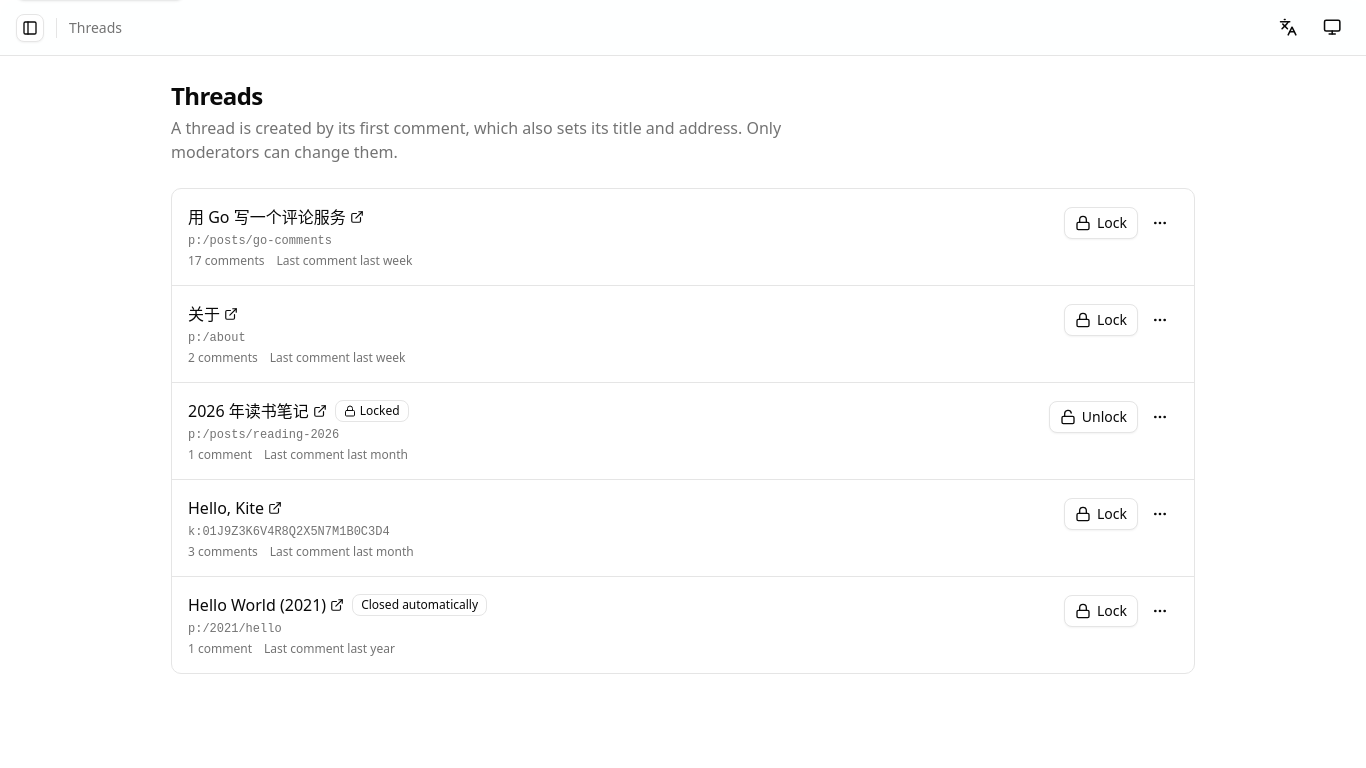
it: moderation › locks a thread and moves another to a new key
This screenshot has width=1366, height=768.
Click the button "Lock" in the row of "关于": (1101, 320) [1064,304,1138,336]
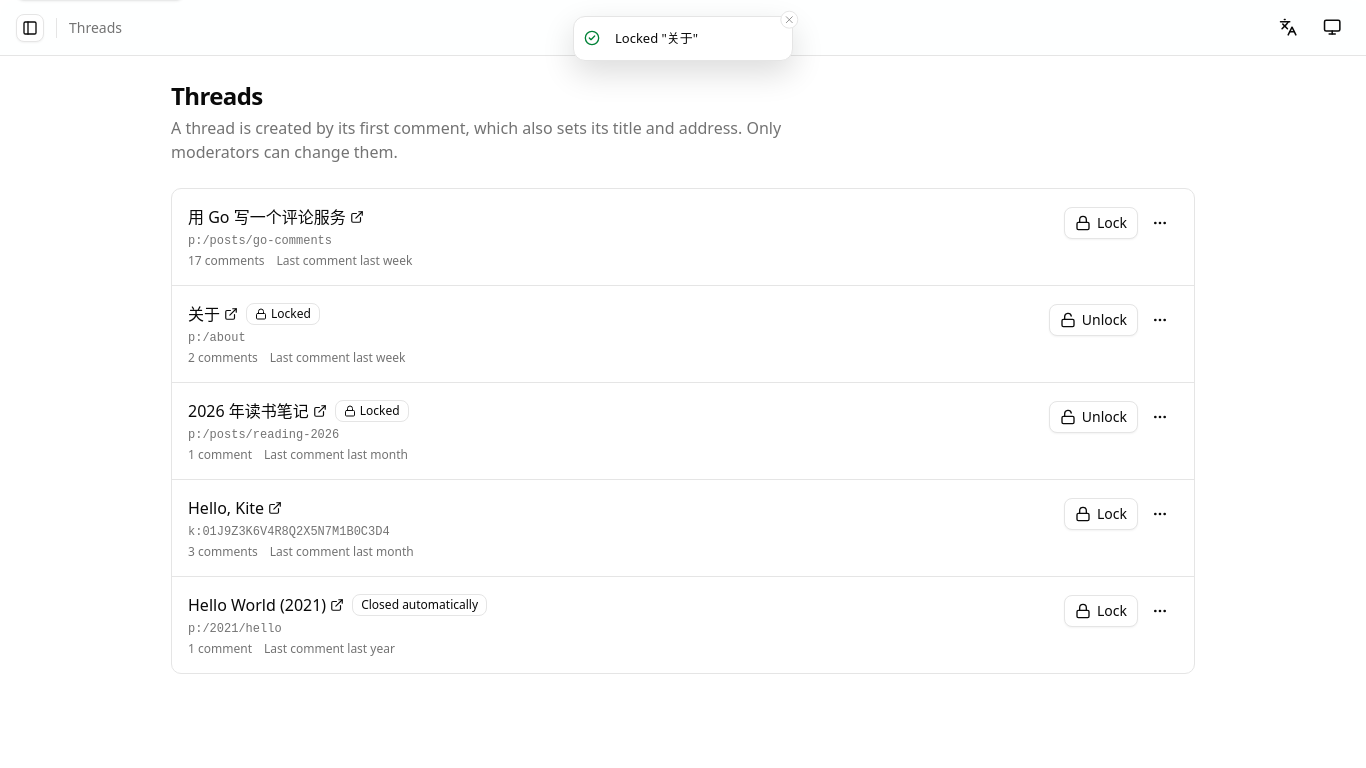
Expected: the button "Unlock" in the row of "p:/about" is shown, [1049,304,1138,336]
Click the button named "More actions": (1160, 320) [1142,302,1178,338]
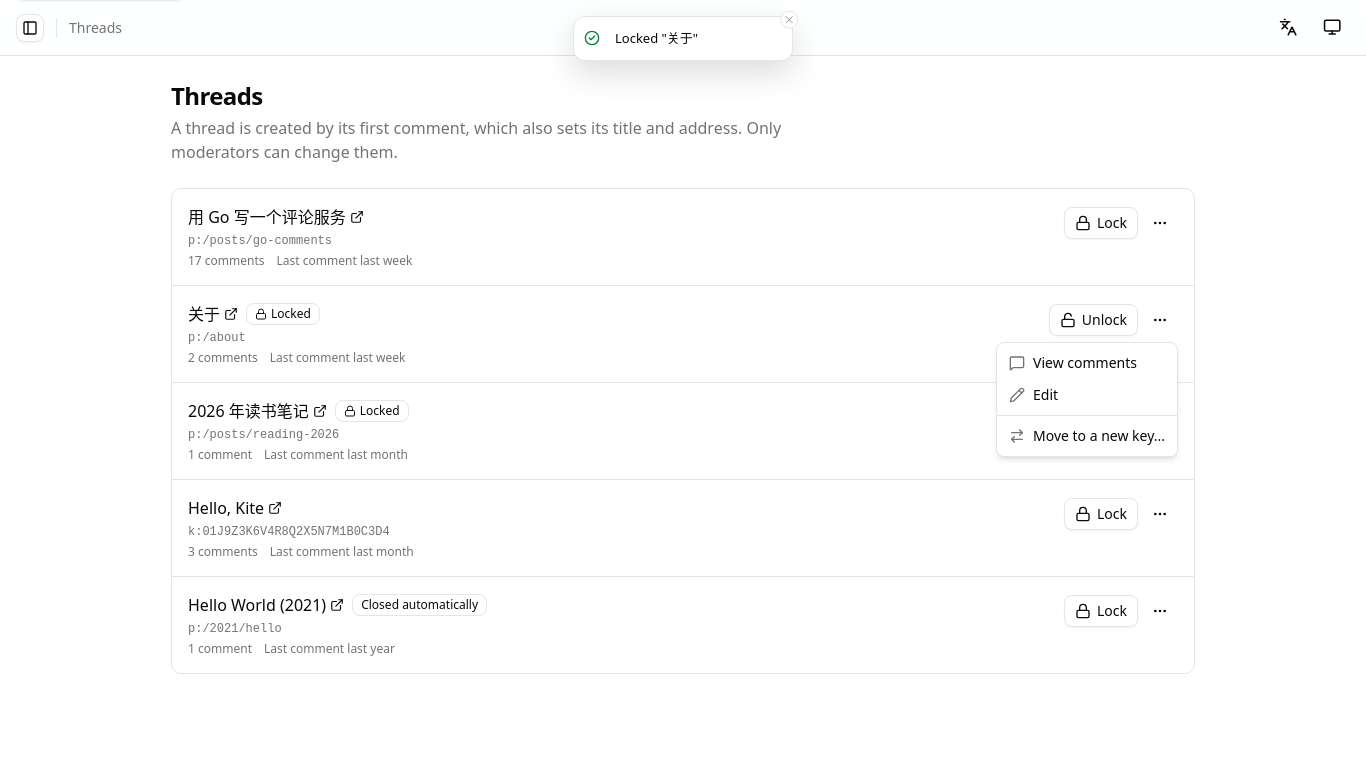
Click the menu item "Move to a new key...": (1087, 436) [1009,426,1165,445]
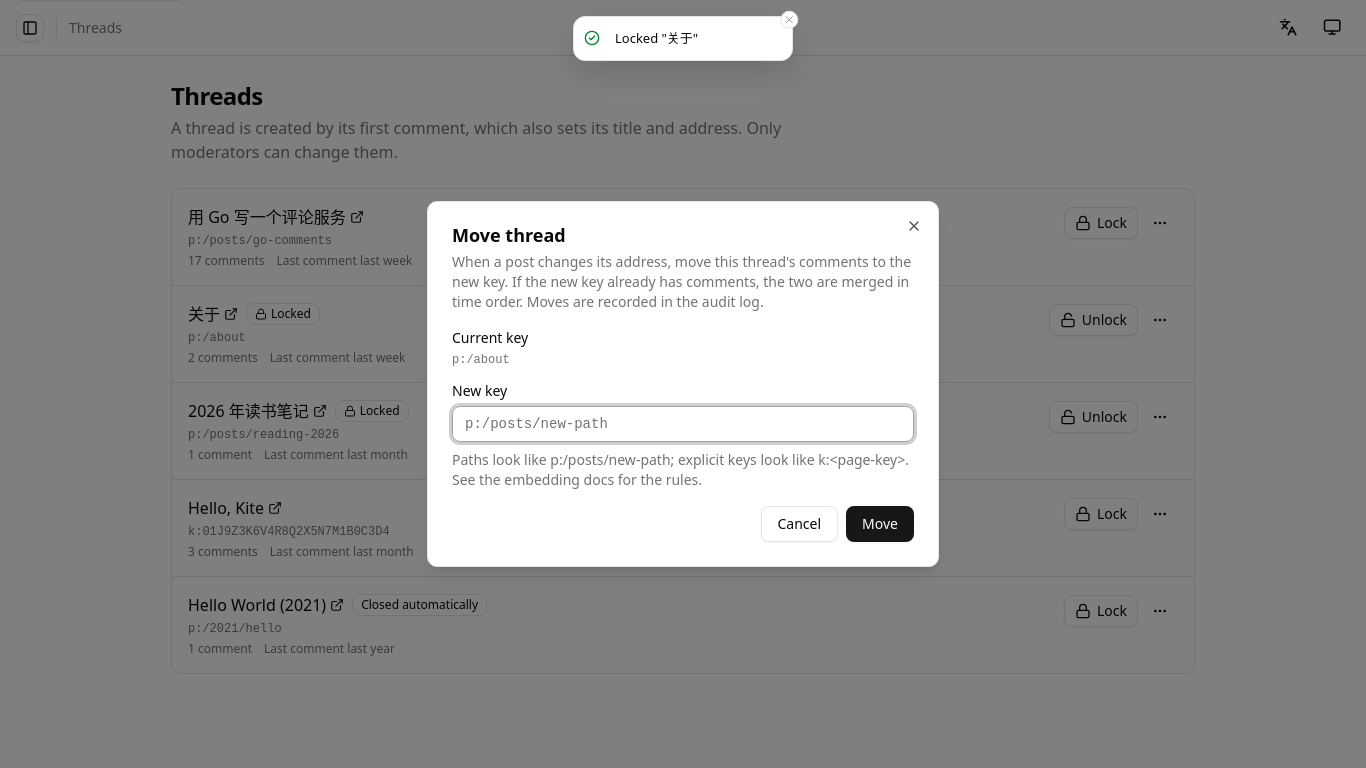
In the field labelled "New key": (683, 424) [452,406,914,442], type "/about-me"
Click the button "Move": (880, 524) [846,506,914,542]
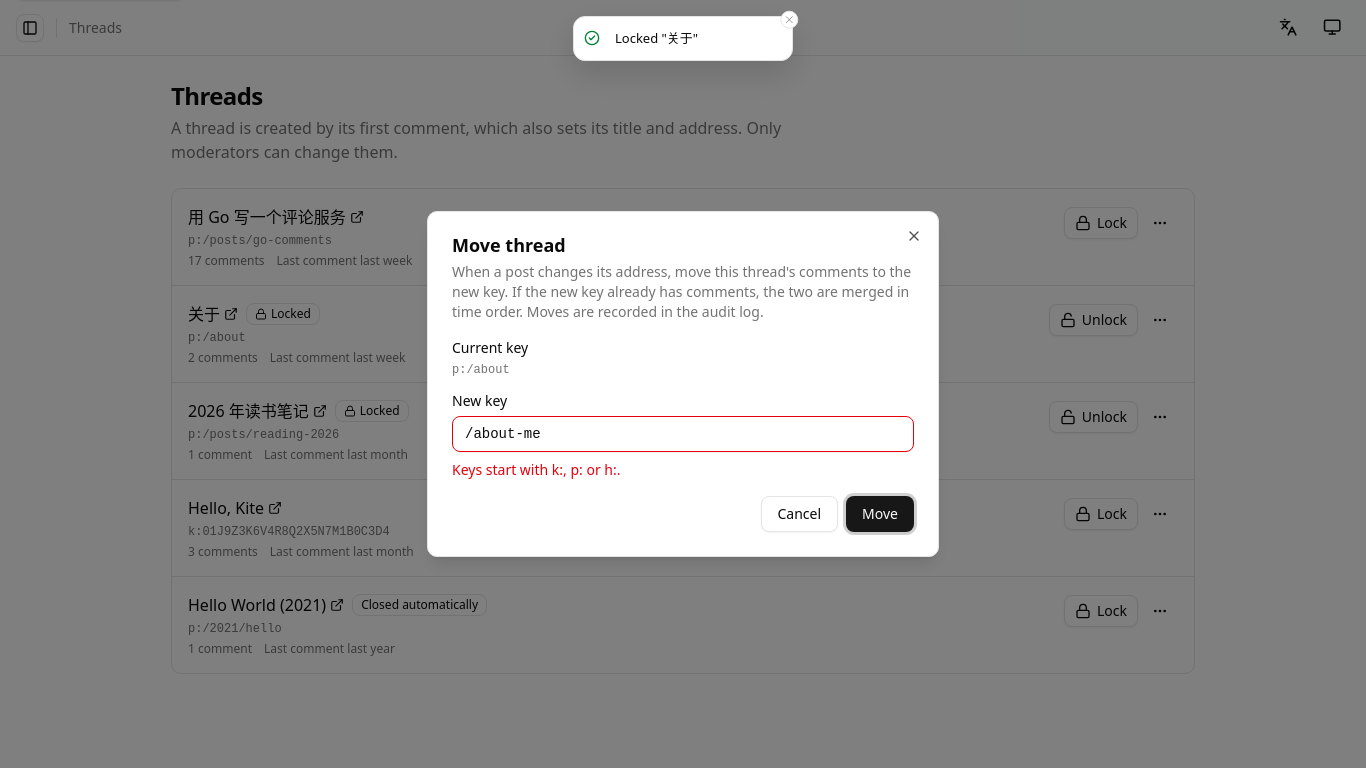
Expected: the text "Keys start with k:, p: or h:." is shown, [452,460,620,479]
Replace the text in the field labelled "New key" with "p:/about-me": (683, 434) [452,416,914,452]
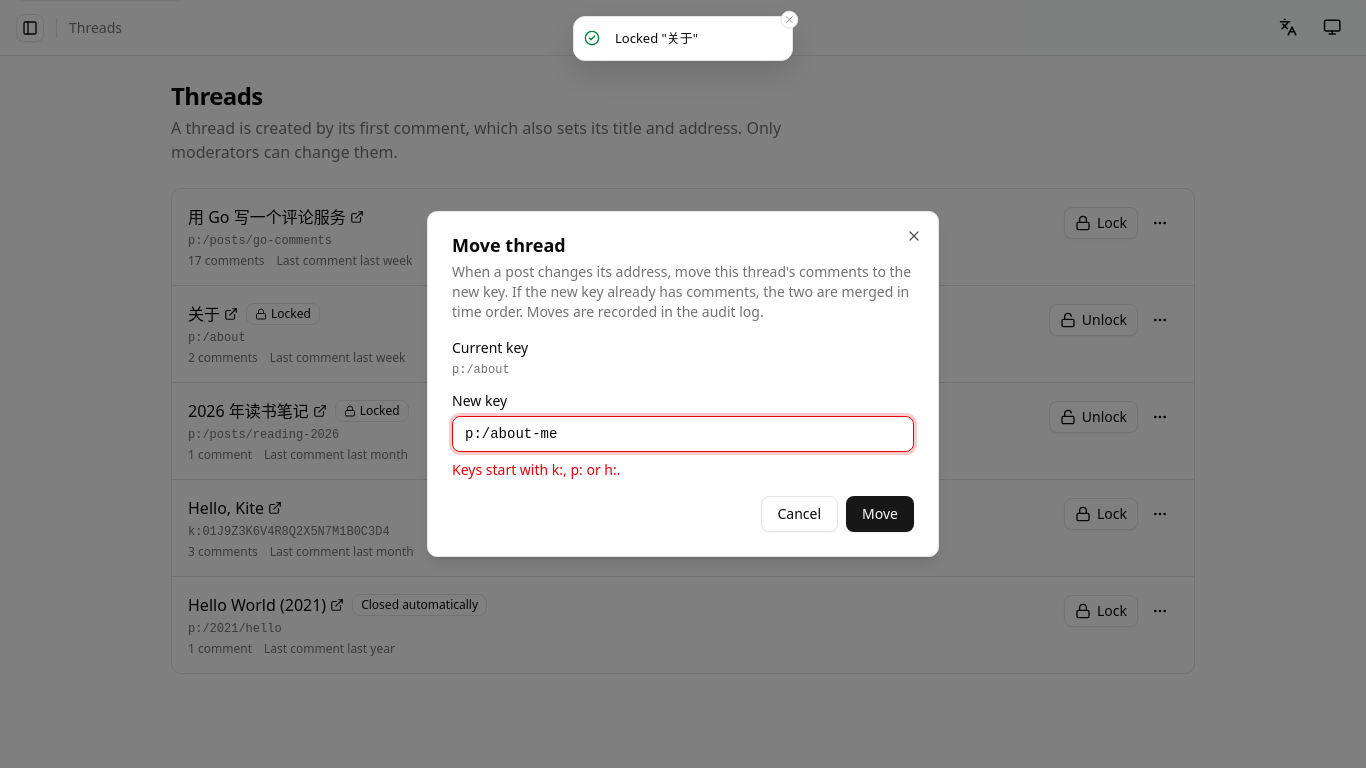
Click the button "Move": (880, 514) [846,496,914,532]
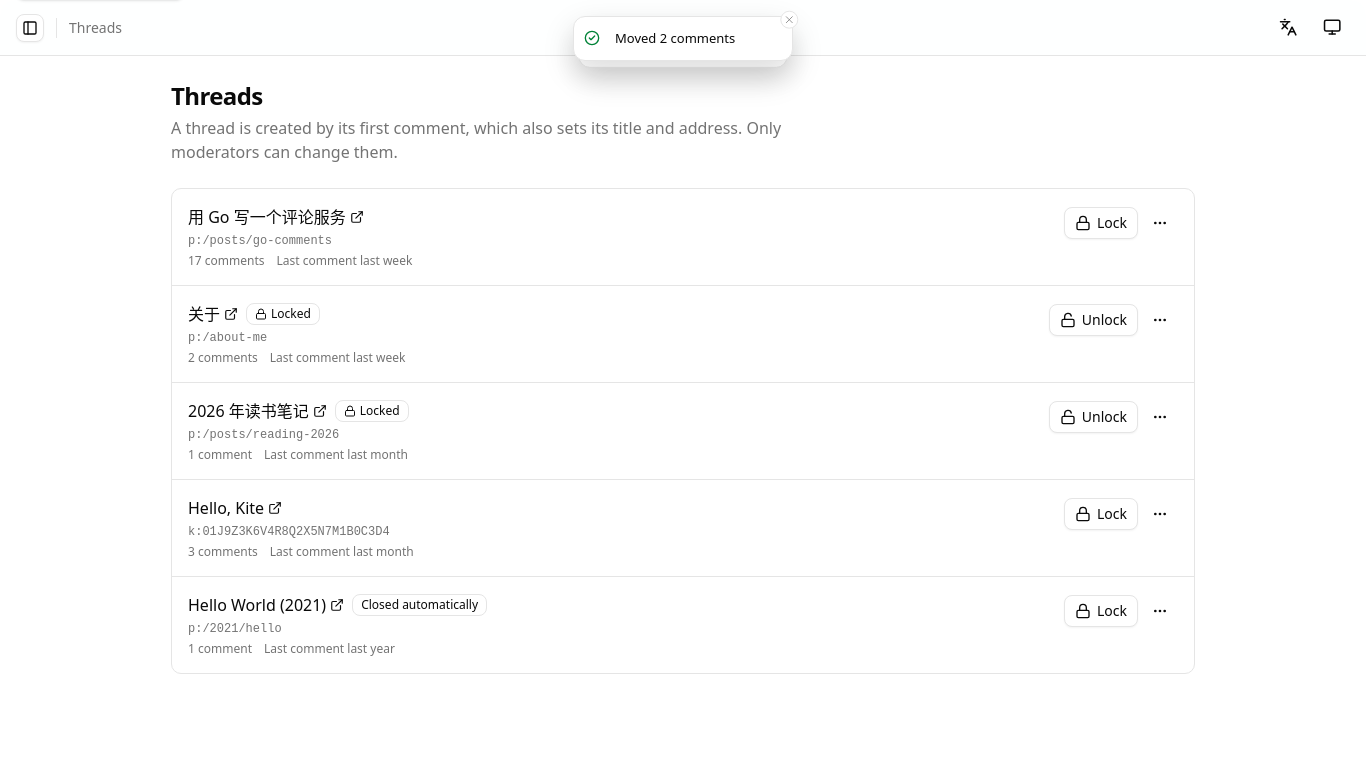
Expected: the text "Moved 2 comments" is shown, [615,29,735,47]
